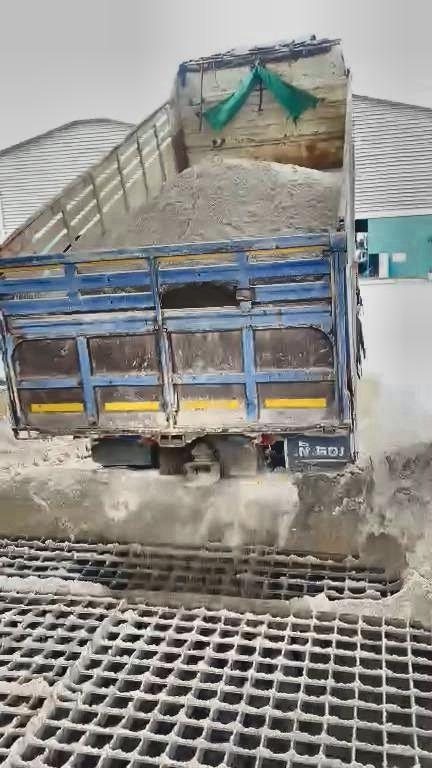gravel: (1, 421, 432, 625), (101, 161, 336, 246), (1, 566, 108, 602), (1, 673, 48, 692)
